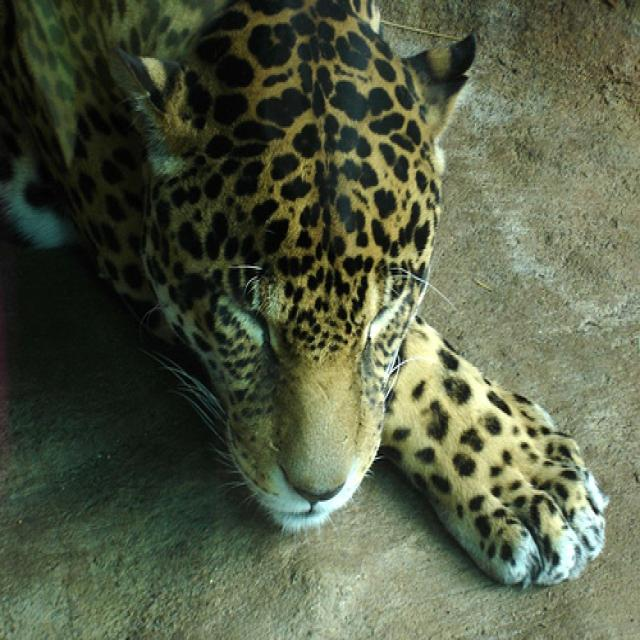Leopard: (0, 0, 608, 592)
